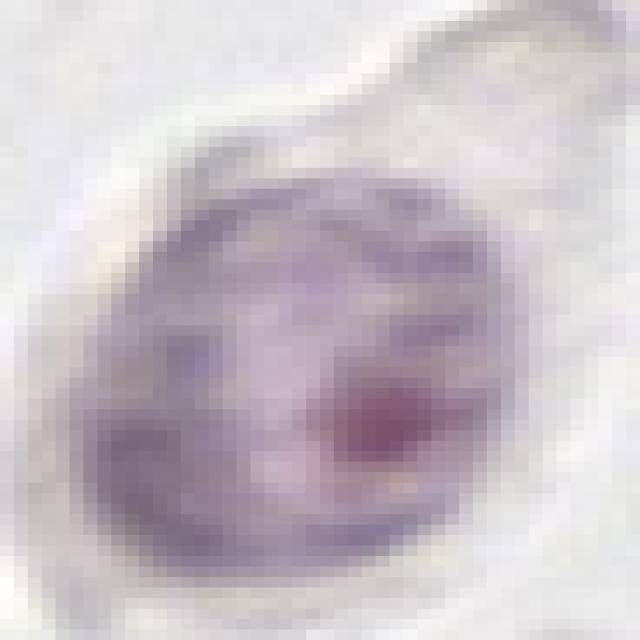nucleus: (0, 118, 577, 640)
